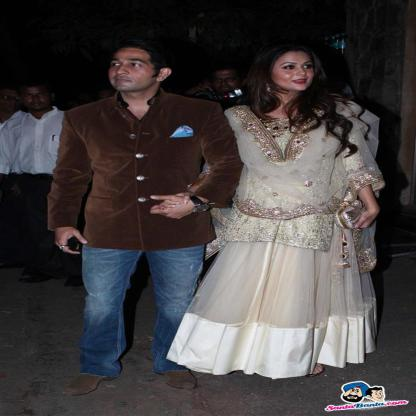face: (113, 46, 157, 92), (276, 53, 316, 91), (20, 86, 54, 112)
